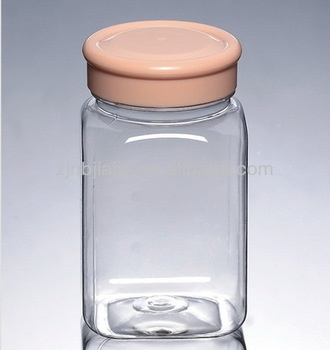emptybottle: (82, 20, 248, 338)
